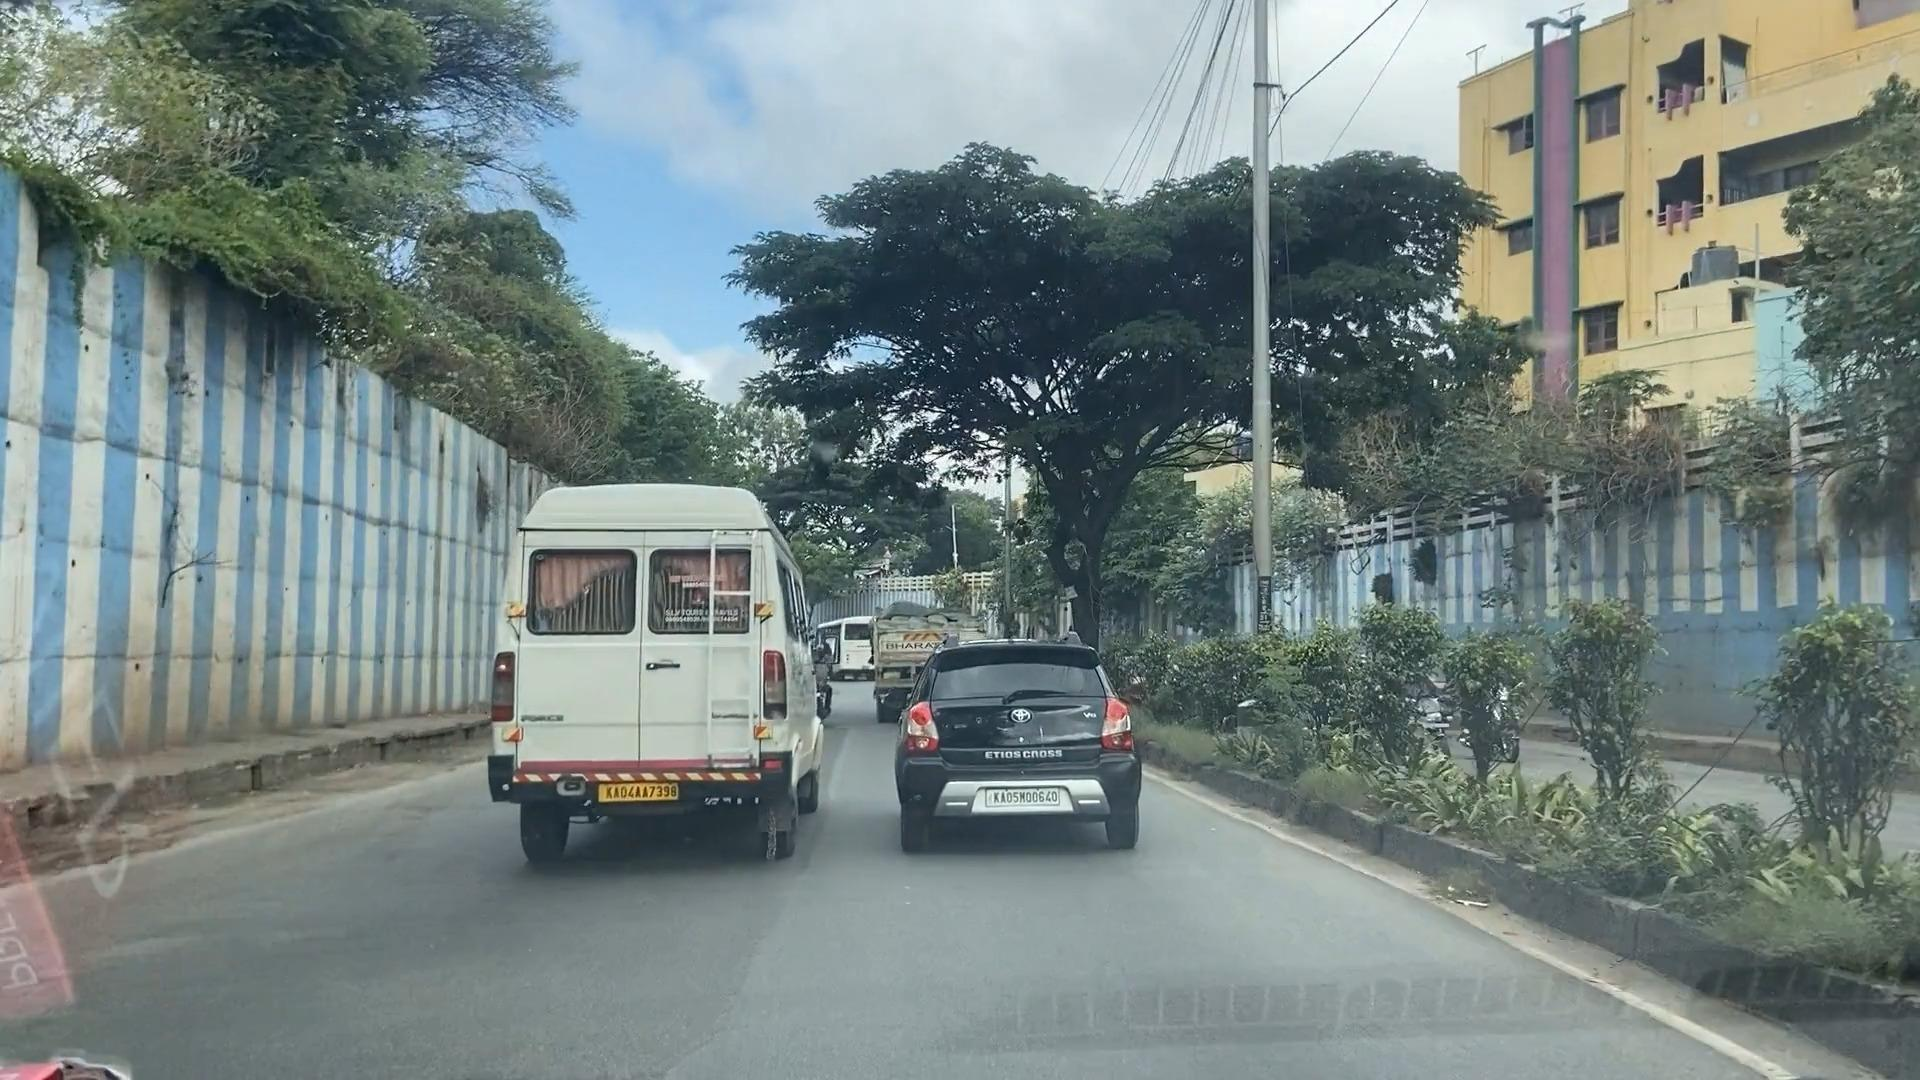HMV: (495, 506, 822, 837)
LMV: (910, 651, 1168, 835)
